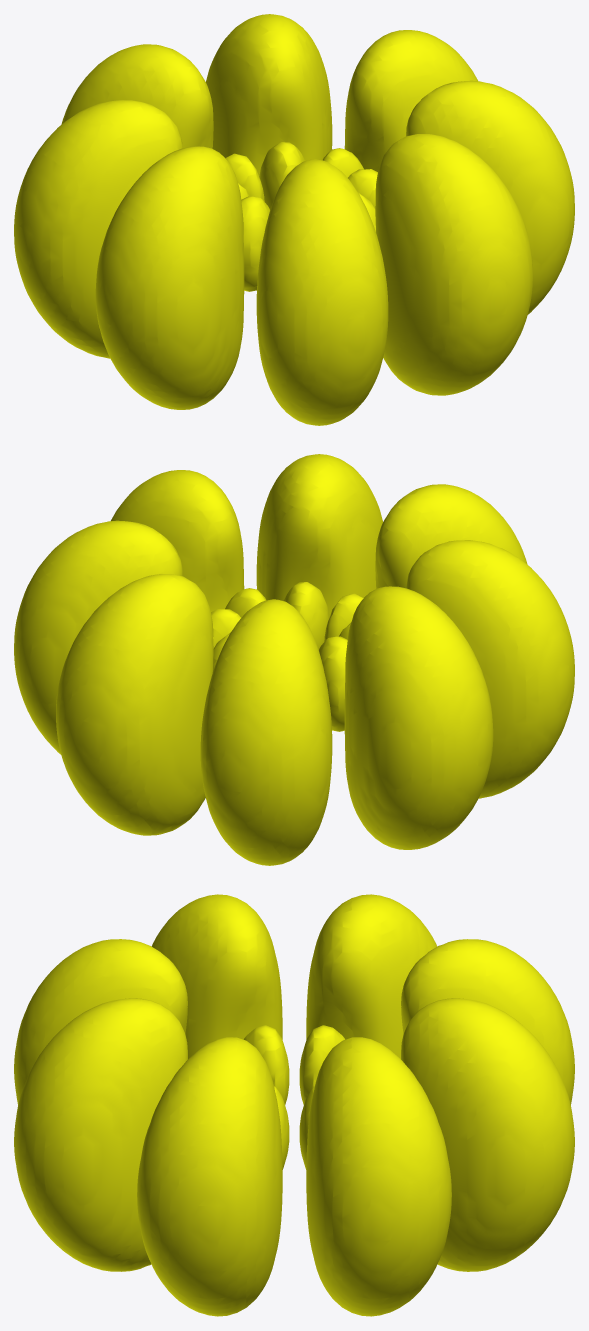
The model's file is orb_n=6_ l=4 _m=-4.fbx.
The picture shows the model from 3 angles, top to bottom: view 1: azimuth 30°, elevation 25°; view 2: azimuth 150°, elevation 25°; view 3: azimuth 270°, elevation 25°; orthographic projection. The views are drawn at different scales.
Parts seen in each view (by area): view 1: orb_n=6_ l=4 _m=-4; view 2: orb_n=6_ l=4 _m=-4; view 3: orb_n=6_ l=4 _m=-4.
Part boxes in pixels (x1,y1,x2,y2): orb_n=6_ l=4 _m=-4: (14, 14, 574, 425); orb_n=6_ l=4 _m=-4: (14, 454, 574, 865); orb_n=6_ l=4 _m=-4: (14, 894, 574, 1316).
Size of the model in its own units: 14027 by 7332 by 14027.
